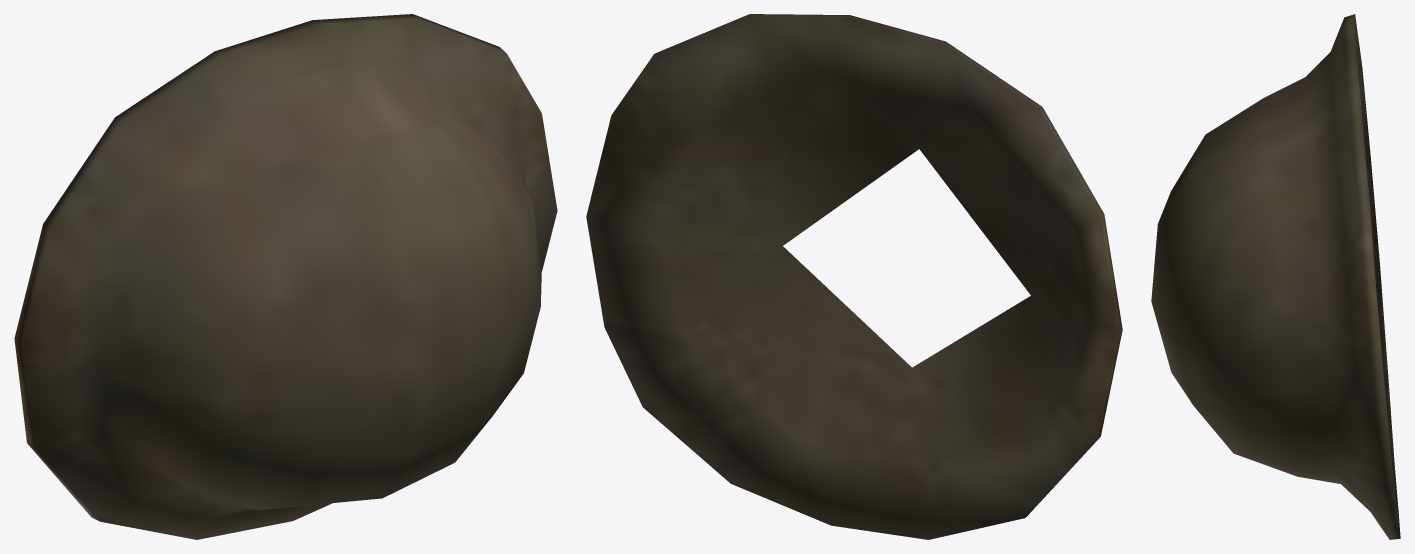
The model's file is helmet_british_normandy.glb.
The picture shows the model from 3 angles, left to right: view 1: azimuth 30°, elevation 25°; view 2: azimuth 150°, elevation 25°; view 3: azimuth 270°, elevation 25°; orthographic projection. The views are drawn at different scales.
Bounding box in the file's own units: 12.46 × 11.15 × 5.52.
1 material, 1 textured.
